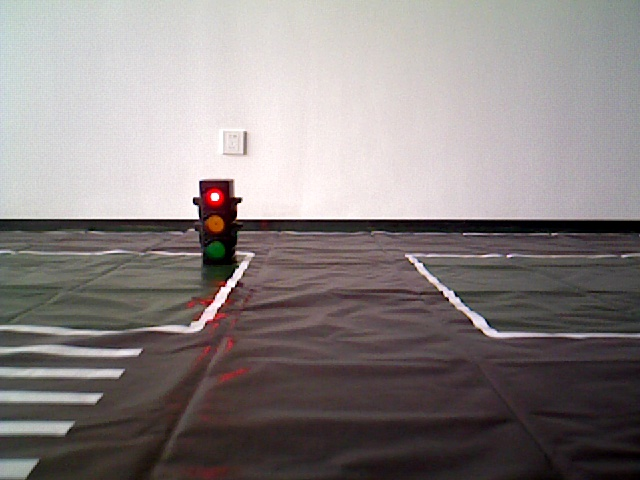red: (199, 183, 233, 273)
